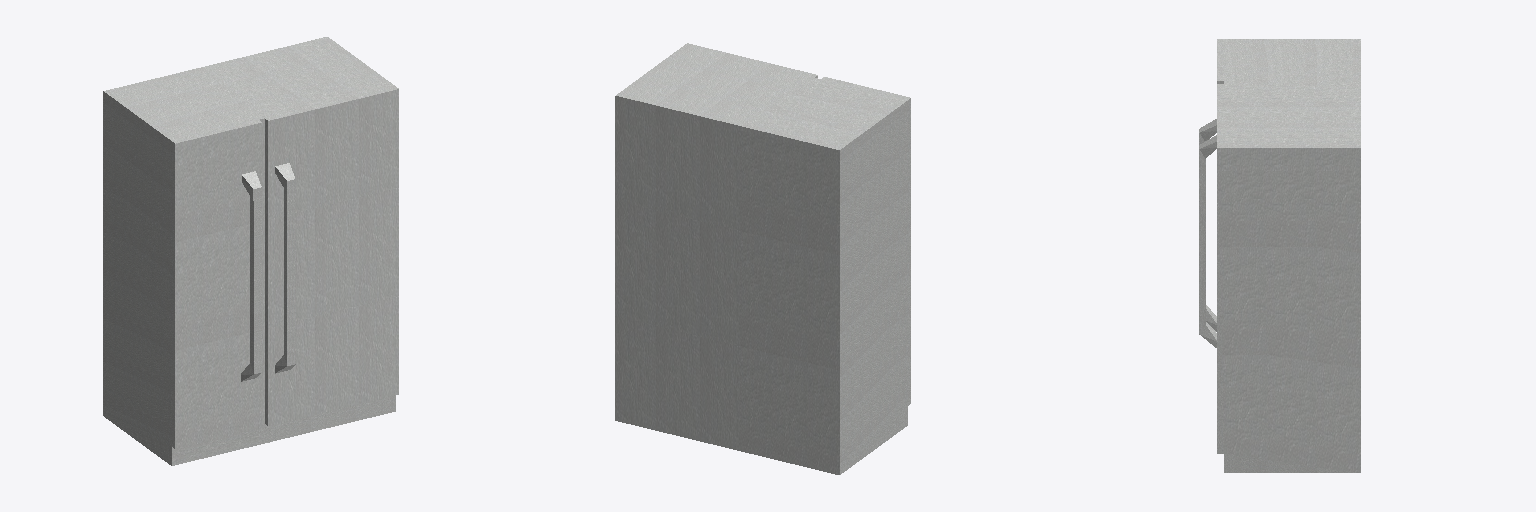
3 renders of one model, left to right at view 1: azimuth 30°, elevation 25°; view 2: azimuth 150°, elevation 25°; view 3: azimuth 270°, elevation 25°, orthographic.
Size of the model in its own units: 3.61 by 5 by 2.25.
Materials: 1 (1 with a texture image).